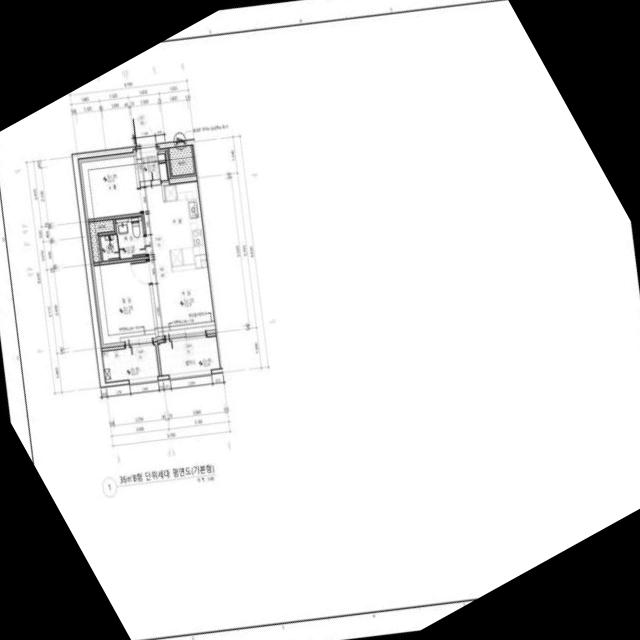background: (0, 0, 640, 640)
space_balconi: (157, 336, 219, 375), (102, 345, 158, 382)
space_bedroom: (91, 260, 156, 348)
space_front: (136, 149, 168, 187)
space_kitchen: (161, 181, 207, 272)
space_living_room: (140, 185, 215, 340)
space_other: (78, 153, 140, 220), (86, 220, 113, 263), (166, 145, 196, 178)
space_toilet: (99, 216, 146, 261)
